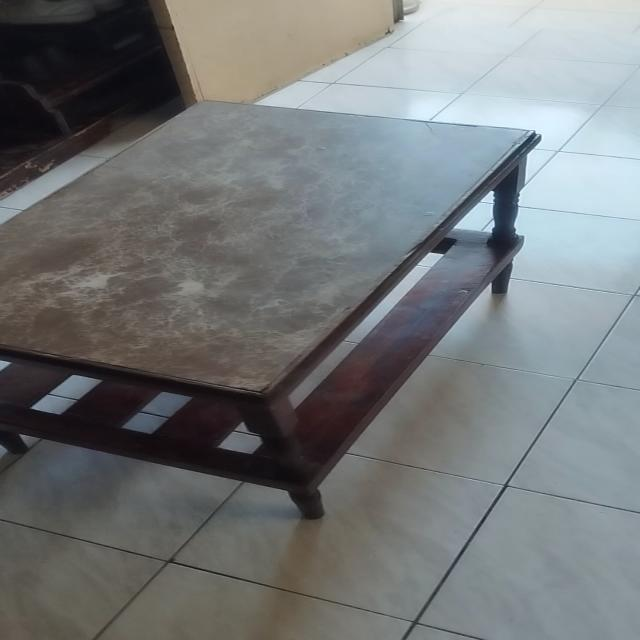table: (0, 95, 552, 526)
